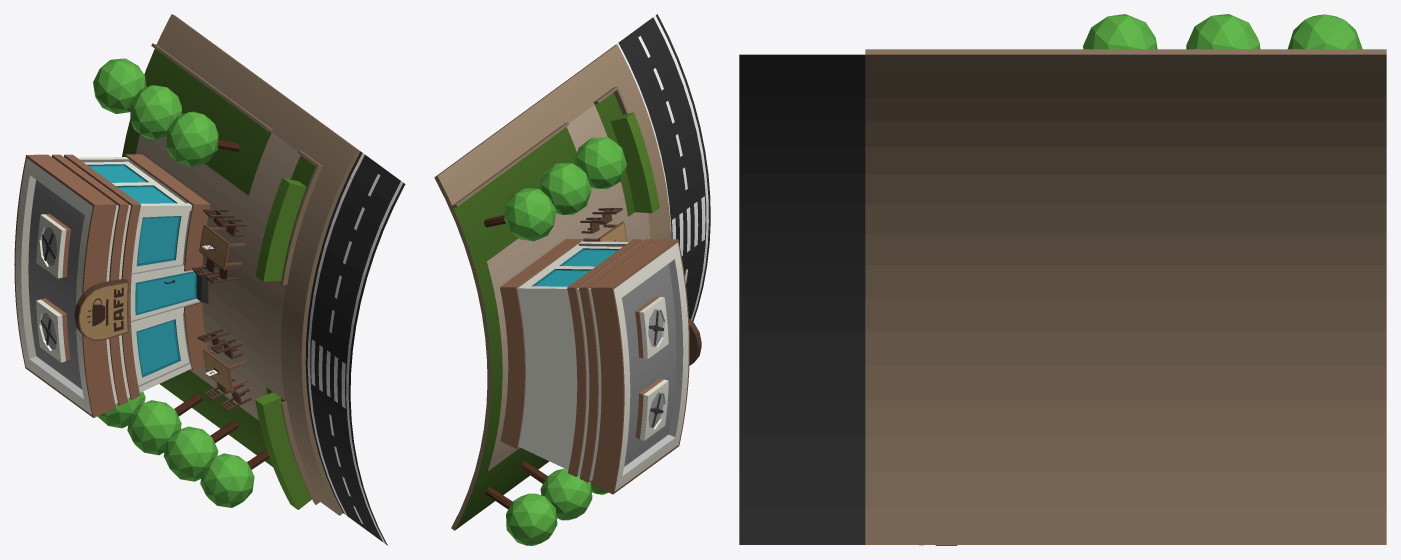
The model's file is cafe_meshopt.glb.
3 renders of one model, left to right at view 1: azimuth 30°, elevation 25°; view 2: azimuth 150°, elevation 25°; view 3: azimuth 270°, elevation 25°, orthographic. The views are drawn at different scales.
Size of the model in its own units: 63.63 by 123 by 136.
Materials: 1 (1 with a texture image).
